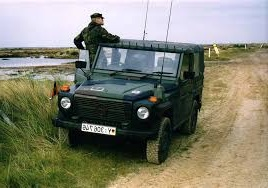license_plate: (81, 122, 116, 136)
